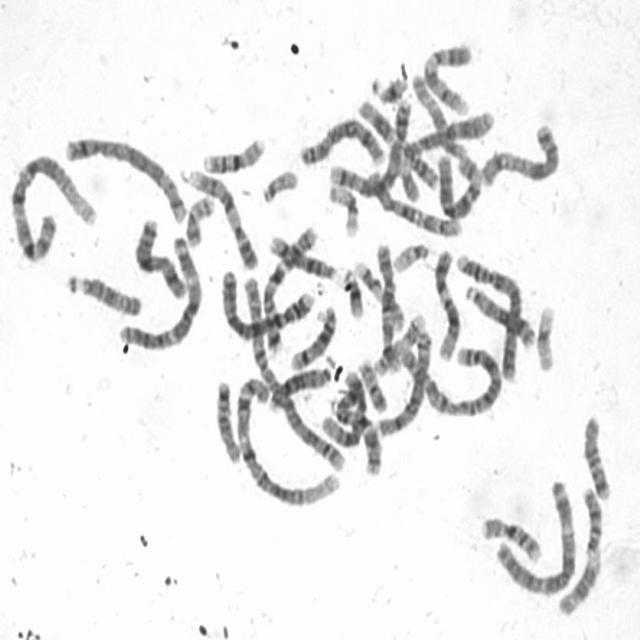A1: (232, 368, 344, 511), (7, 147, 99, 265)
A2: (239, 262, 346, 482), (394, 338, 504, 418)
A3: (491, 472, 578, 598), (114, 230, 203, 352)
B4: (452, 245, 526, 384), (216, 264, 316, 343)
B5: (62, 128, 188, 225), (326, 90, 414, 200)
C10: (364, 162, 466, 238), (373, 239, 402, 376)
C11: (354, 97, 441, 194), (554, 481, 606, 618)
C12: (320, 368, 368, 449), (430, 243, 462, 364)
C6: (397, 104, 497, 202), (435, 148, 484, 221)
C7: (260, 223, 320, 353), (331, 382, 384, 478)
C8: (373, 322, 433, 441), (296, 111, 389, 170)
C9: (183, 163, 260, 271), (419, 38, 474, 116)
D13: (462, 280, 538, 350), (266, 355, 336, 414)
D14: (266, 228, 340, 284), (285, 299, 337, 372)
D15: (408, 66, 472, 162), (62, 267, 144, 318)
E16: (477, 511, 544, 564), (199, 130, 269, 175)
E17: (351, 255, 406, 332), (368, 306, 427, 376)
E18: (579, 410, 614, 502), (212, 375, 244, 465)
F19: (325, 178, 362, 239), (533, 298, 558, 374)
F20: (182, 190, 218, 248), (355, 354, 389, 414)
G21: (368, 68, 410, 105), (339, 262, 365, 321)
G22: (258, 164, 300, 205), (389, 237, 432, 274)
X: (476, 116, 563, 190), (130, 213, 187, 301)
